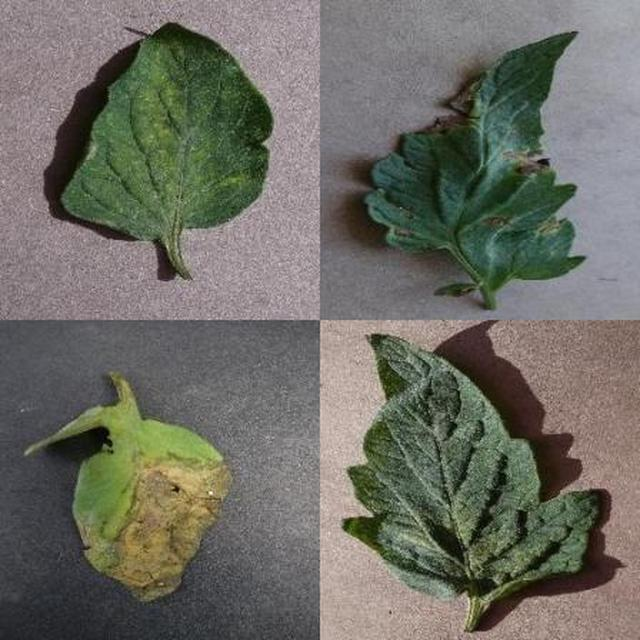Spider Mites Leaf: (218, 188, 640, 640)
